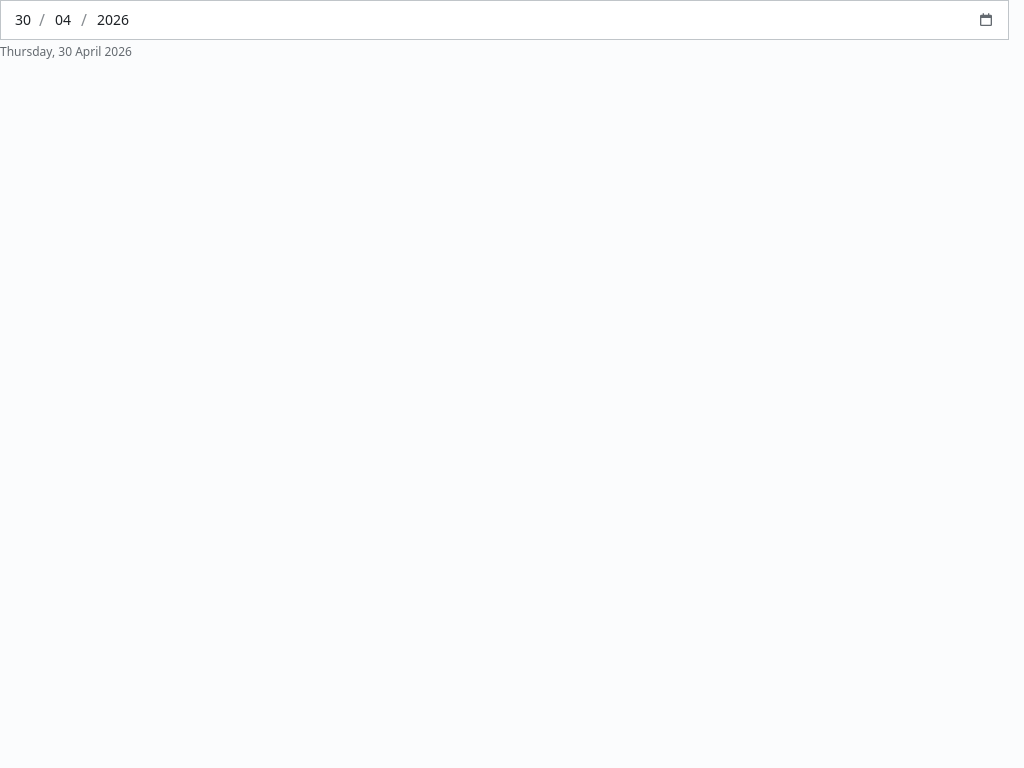
Test: the keyboard, inside the calendar › turns the page when the keyboard leaves the month
The width and height of the screenshot is (1024, 768).
Click the button named "Open calendar" at (986, 20), box [972,6,1000,34]
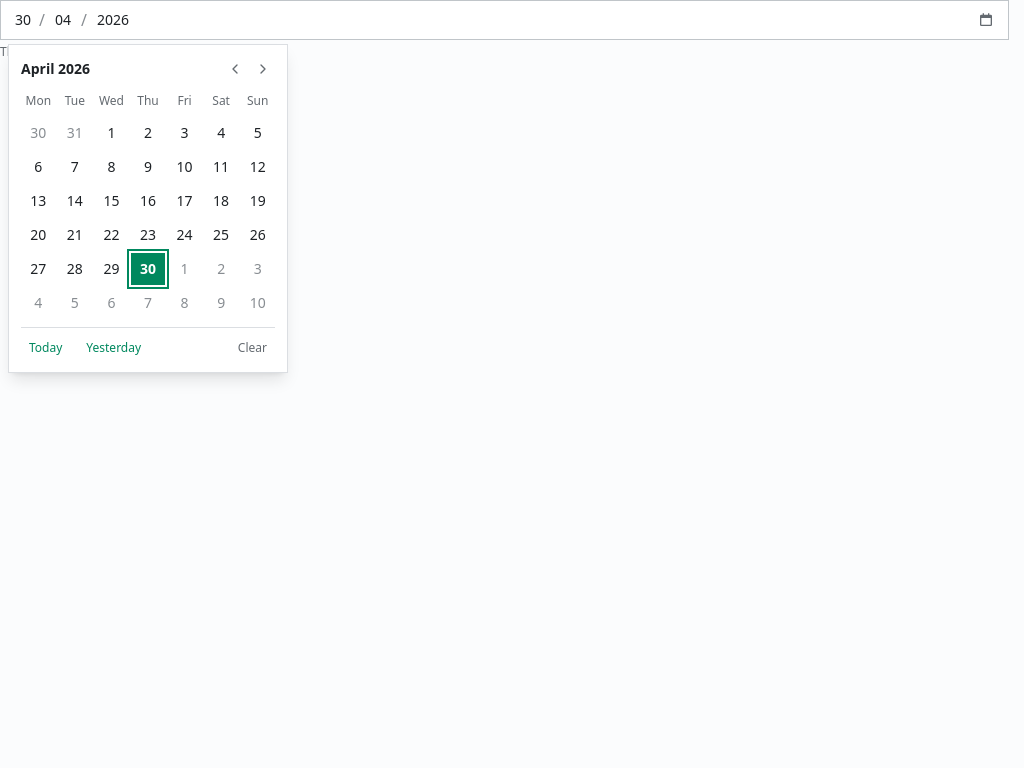
Press ArrowRight in the table, box [21,117,275,319]
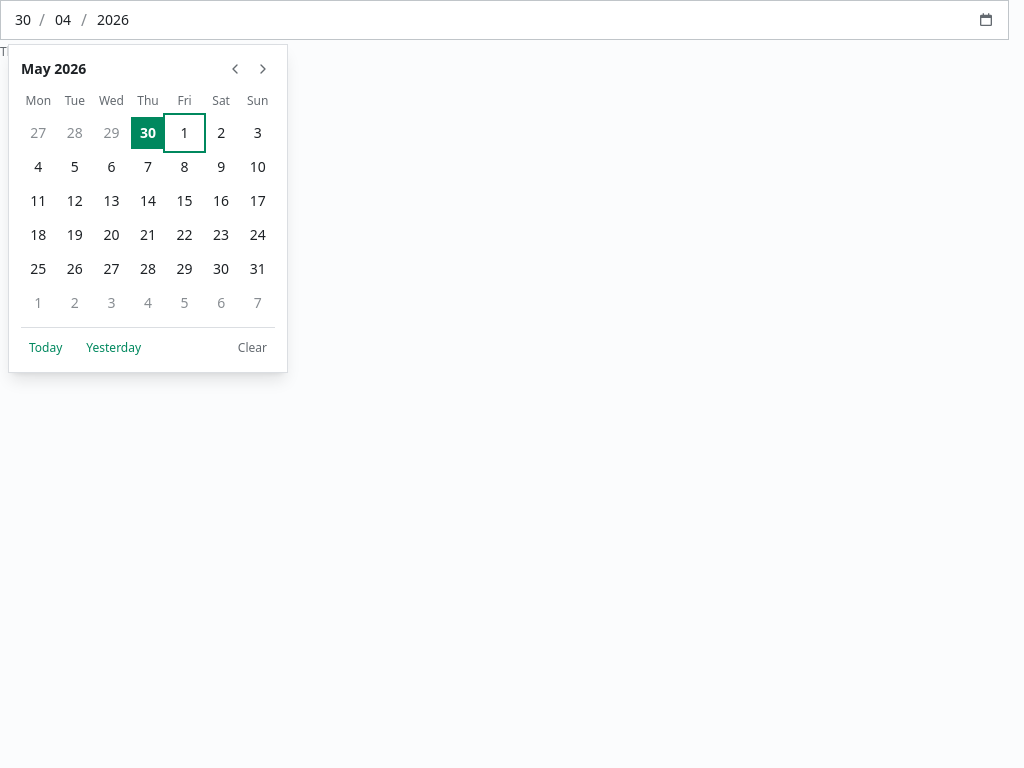
Check: the text "May 2026" is shown, box [21,59,86,79]
